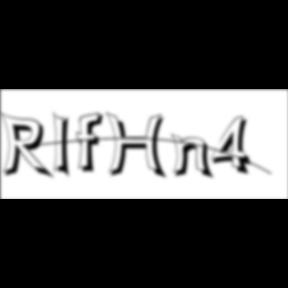4: (210, 115, 258, 179)
H: (105, 112, 171, 182)
I: (53, 110, 77, 182)
R: (1, 112, 58, 182)
f: (76, 111, 110, 175)
n: (171, 132, 218, 181)
